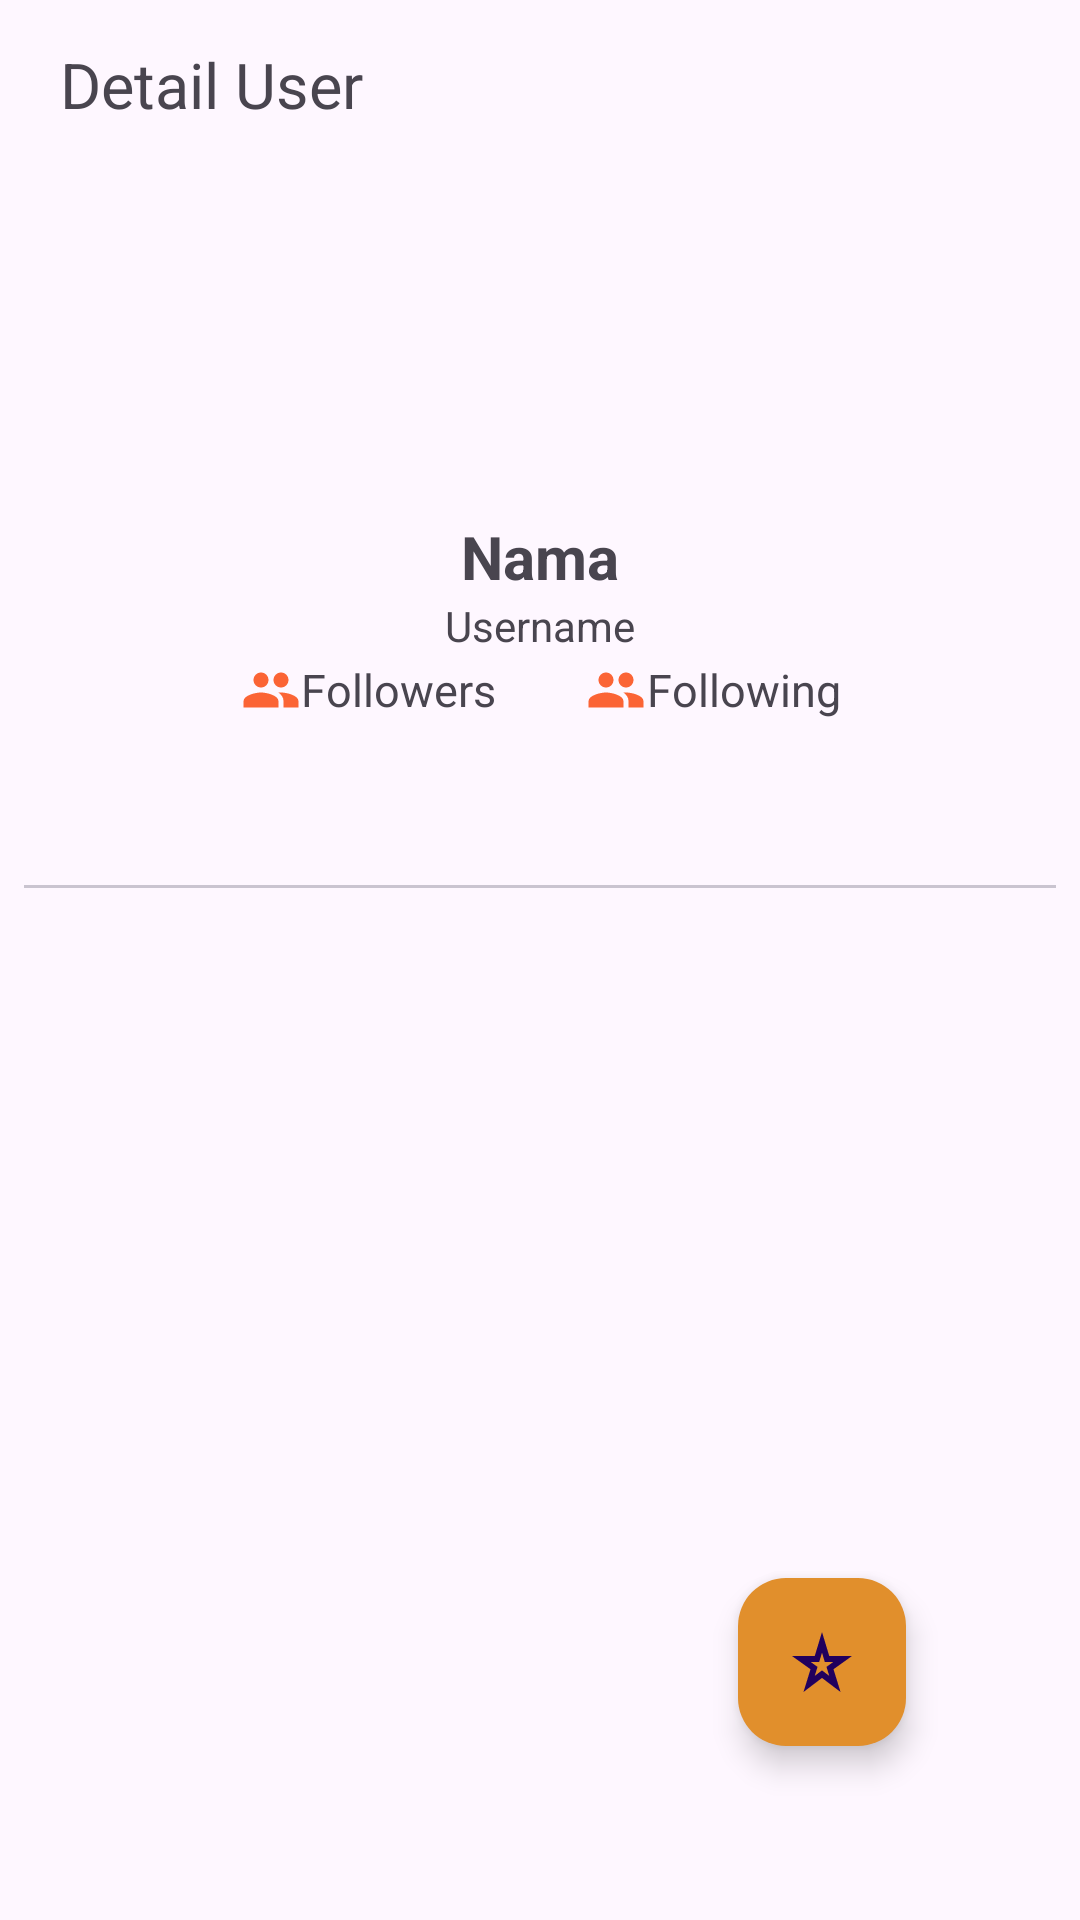

Point at icon controls on the screen. Image size 1080 x 1920, points as (x=x, y=y).
Favorite: (x=822, y=1662)
